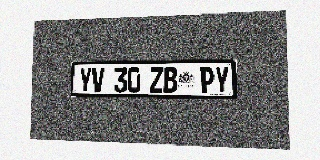0: (127, 67, 140, 93)
3: (114, 68, 127, 92)
B: (164, 67, 177, 93)
P: (200, 67, 214, 93)
V: (92, 68, 104, 92)
Y: (215, 67, 229, 93), (79, 68, 92, 92)
Z: (150, 67, 163, 93)
